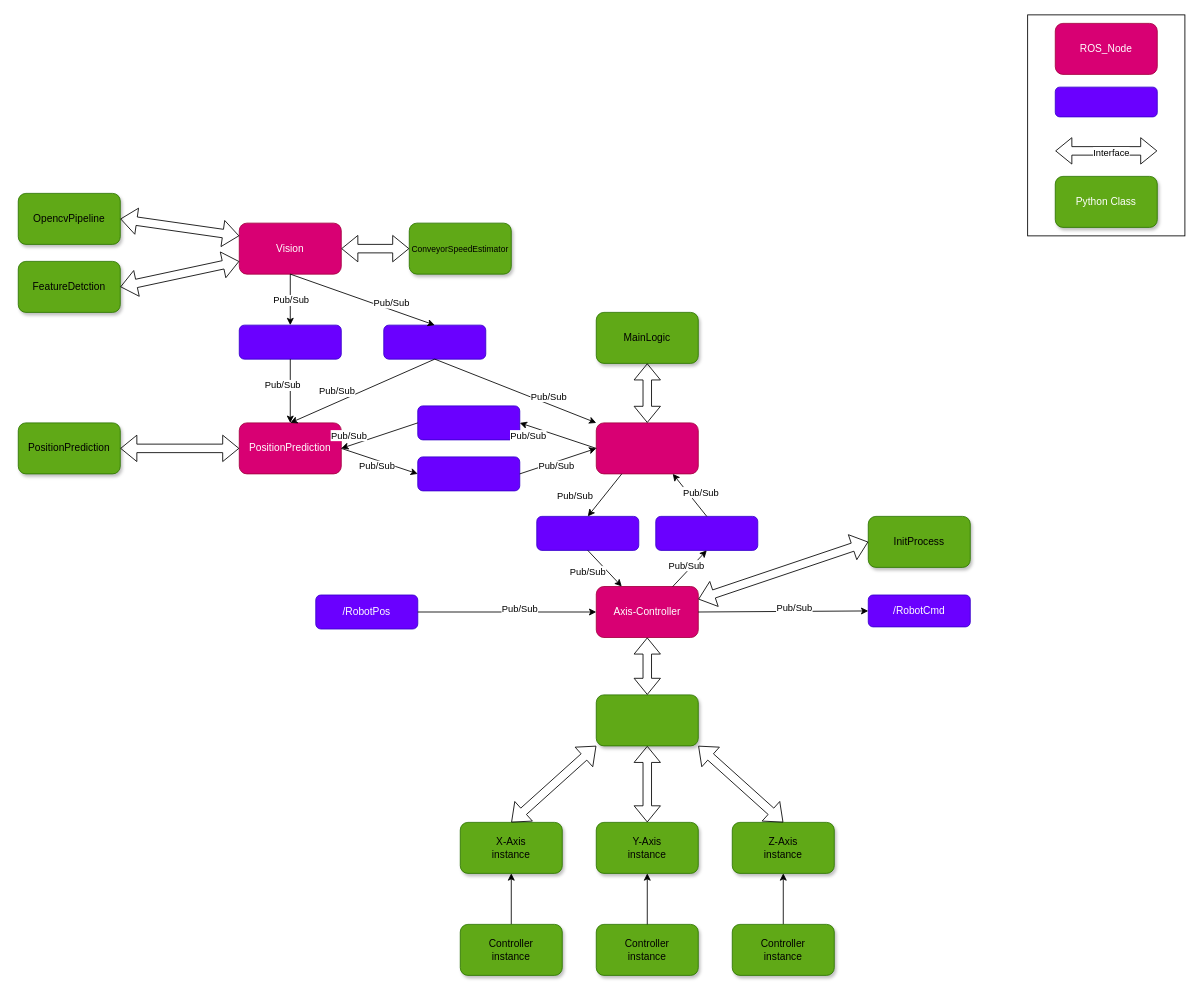
This 1200x996 diagram has some shape labels left out. The centre of each missing label's shape, as x and y in pixels:
/ NimSortConveyorbeltSpeed: pixel 434 341
/NimSortImgeData: pixel 289 341
/NimSortMotionState: pixel 706 533
/NimSortPrediction: pixel 468 473
/NimSortPredictionFeedback: pixel 468 422
/NimSortTarget: pixel 587 533
/ROS_Topic: pixel 1105 101
MainNode: pixel 646 448
Software Axis: pixel 647 721
